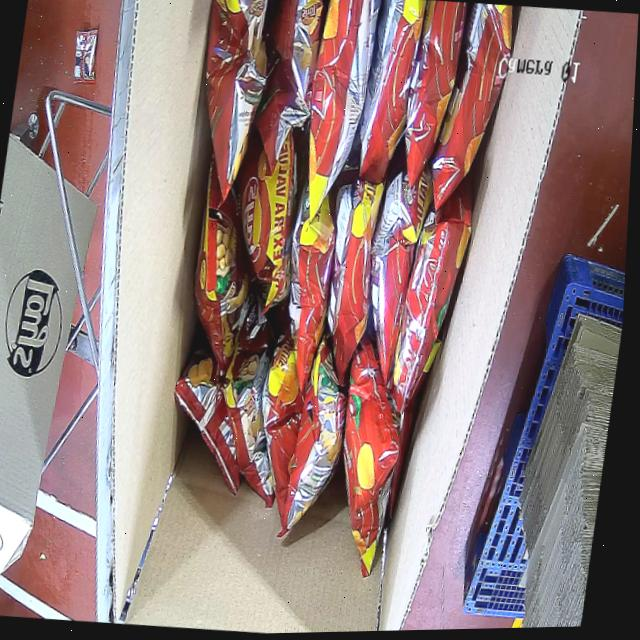MASALA: (130, 0, 517, 586)
